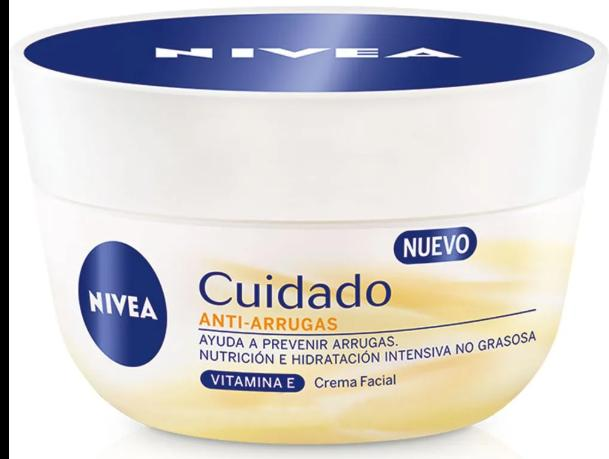brand: (77, 253, 164, 346)
extra_detail: (193, 309, 343, 336)
product_name: (192, 264, 398, 309)
